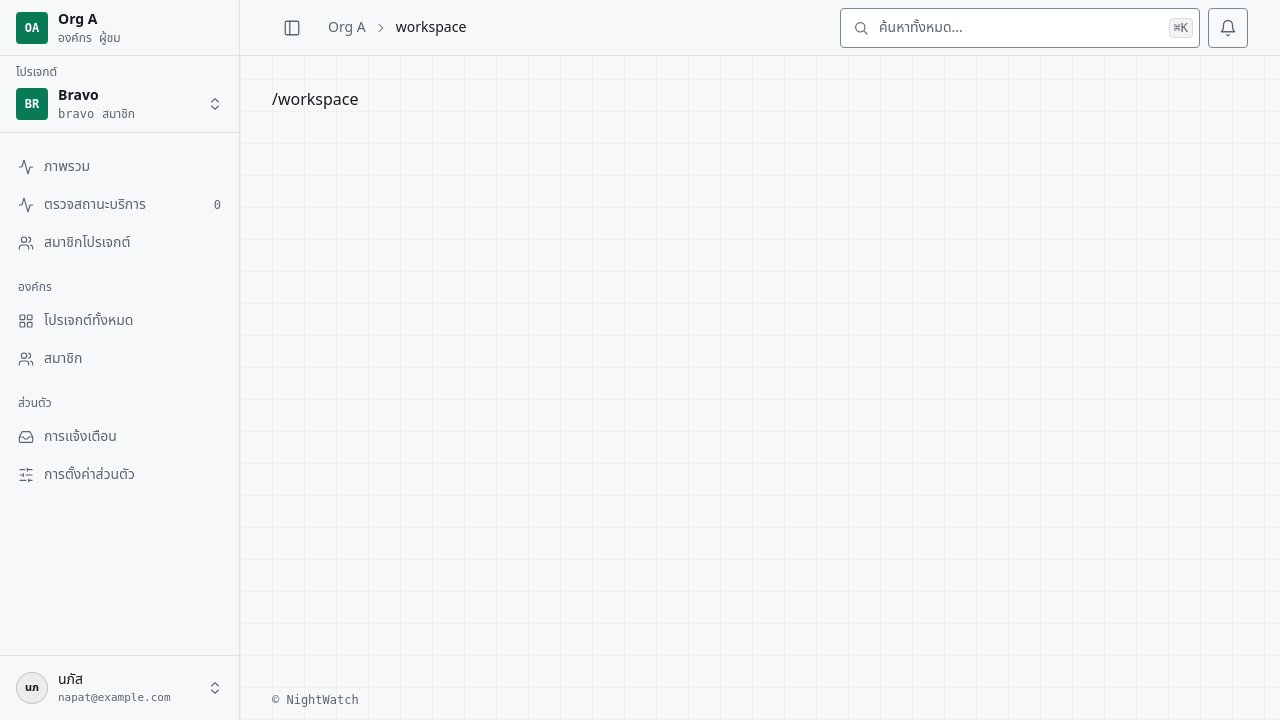
it: ProjectSwitcher › AC-01: hides the not-joined group and the create link from a role below Admin
Click the button with test id "shell-project-switch": (120, 104) [8,84,231,124]
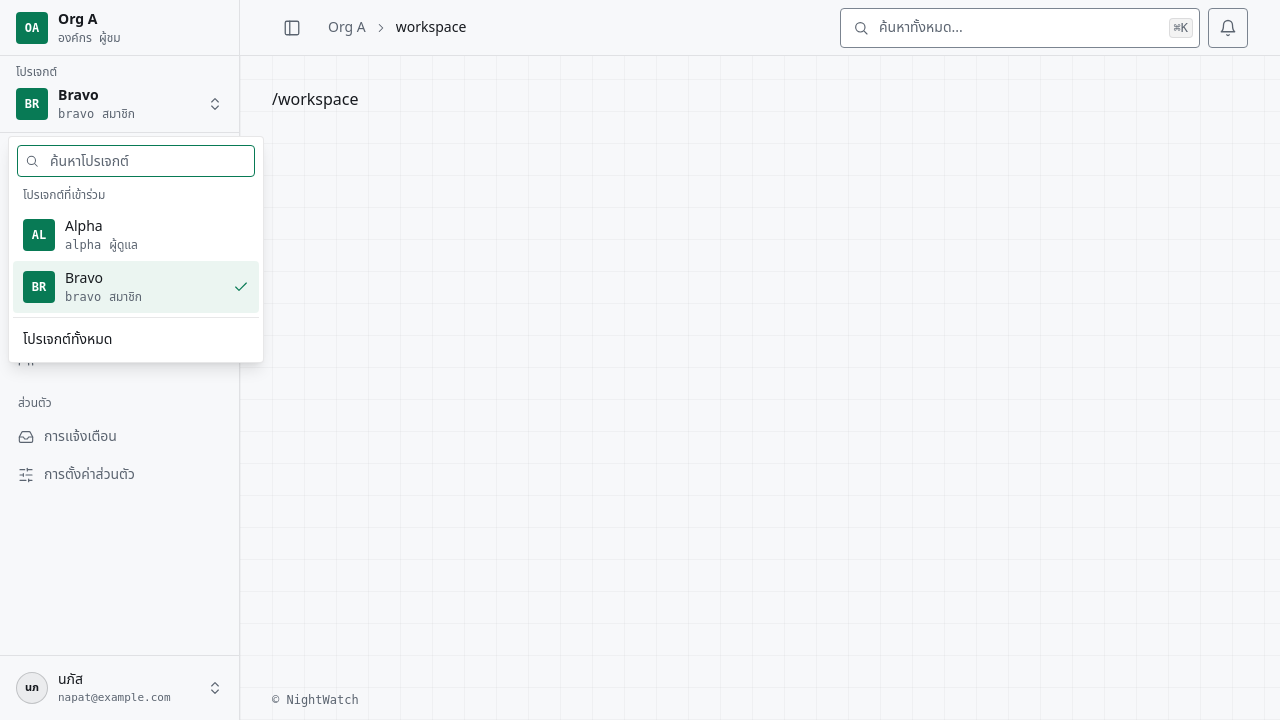
expect the menu item with test id "shell-project-all" is shown: met, box [23,329,112,350]
